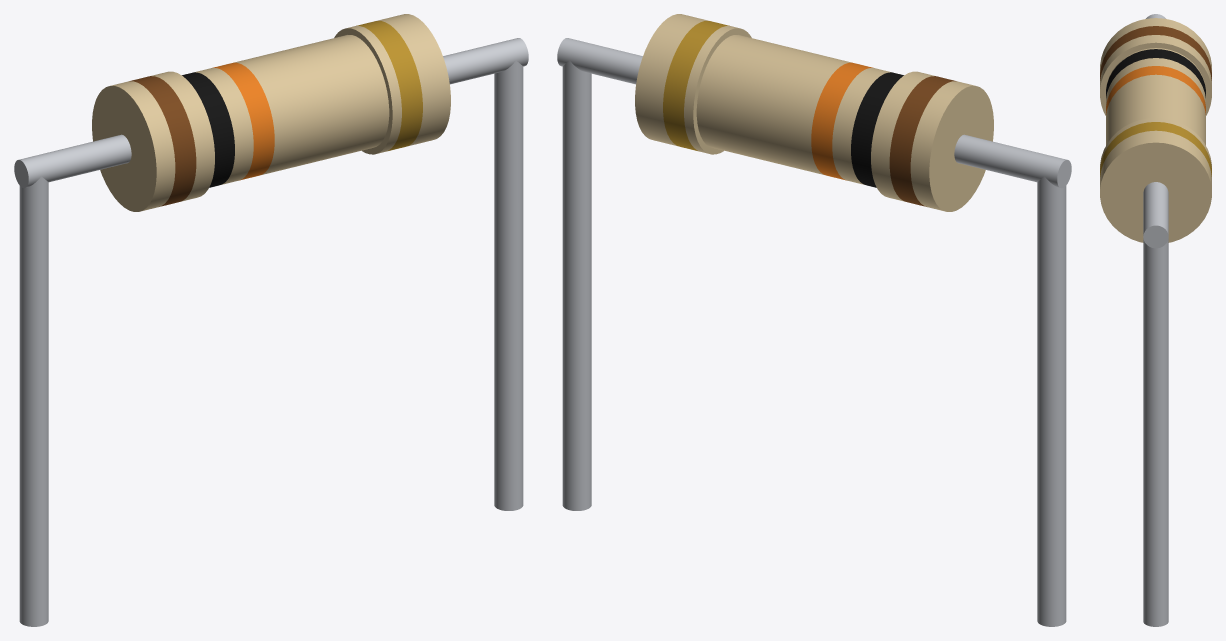
File: resistor-axial.glb
3 renders of one model, left to right at view 1: azimuth 30°, elevation 25°; view 2: azimuth 150°, elevation 25°; view 3: azimuth 270°, elevation 25°, orthographic. The views are drawn at different scales.
Visible parts, largest first — view 1: object 1, lead-1, lead-2, band1-brown, band4-gold, band3-orange, band2-black; view 2: object 1, lead-1, lead-2, band1-brown, band4-gold, band3-orange, band2-black; view 3: object 1, lead-2, band1-brown, band4-gold, band2-black, band3-orange.
Boxes of the visible parts, box(x1,y1,x2,y2) form: object 1: box(92, 14, 450, 211); lead-1: box(14, 134, 131, 626); lead-2: box(443, 38, 528, 510); band1-brown: box(129, 76, 196, 206); band4-gold: box(356, 21, 422, 151); band3-orange: box(212, 62, 274, 180); band2-black: box(182, 72, 234, 187); object 1: box(635, 14, 993, 211); lead-1: box(954, 134, 1071, 626); lead-2: box(557, 38, 642, 510); band1-brown: box(889, 76, 956, 206); band4-gold: box(663, 21, 729, 151); band3-orange: box(811, 62, 873, 180); band2-black: box(851, 72, 903, 187); object 1: box(1100, 18, 1211, 242); lead-2: box(1143, 182, 1168, 626); band1-brown: box(1100, 26, 1211, 80); band4-gold: box(1100, 122, 1211, 176); band2-black: box(1106, 49, 1205, 97); band3-orange: box(1106, 66, 1205, 114).
Size of the model in its own units: 0.0107 by 0.0104 by 0.00239.
